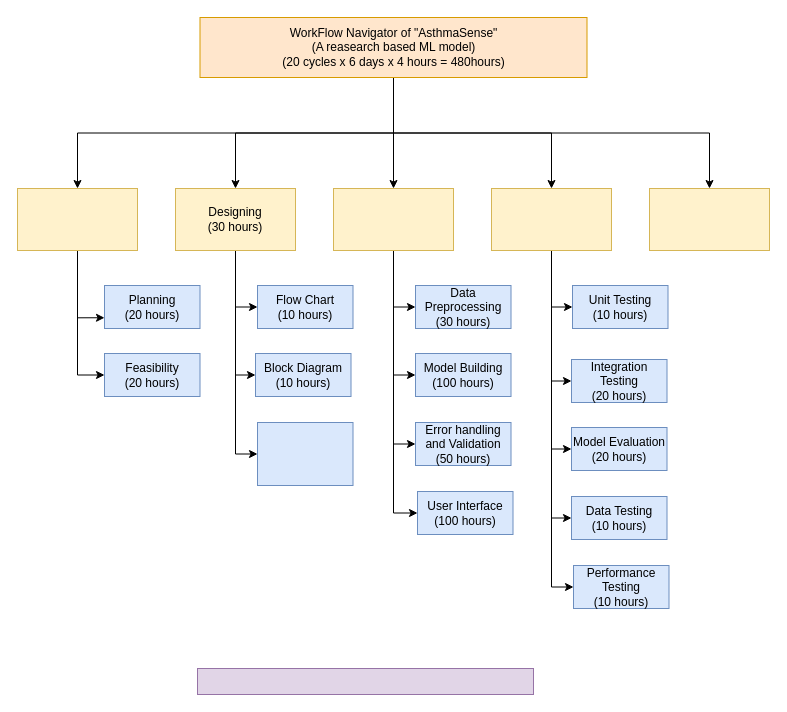
The diagram is 787 pixels wide and 712 high, and some of its shapes have lost their labels. The shapes that lost their labels are listed below. From the top down, each one's centre as x and y in pixels, then its label:
the point at 77,219: Planning and Requiremenet Analysis (40 hours)
the point at 393,219: Coding (280 hours)
the point at 551,219: Testing (70 hours)
the point at 709,219: Documentation (60 hours)
the point at 304,454: System Architecture Diagram (10 hours)
the point at 365,681: Figure 2.2.4.1 : Work Breakdown Structure of AsthmaSense
